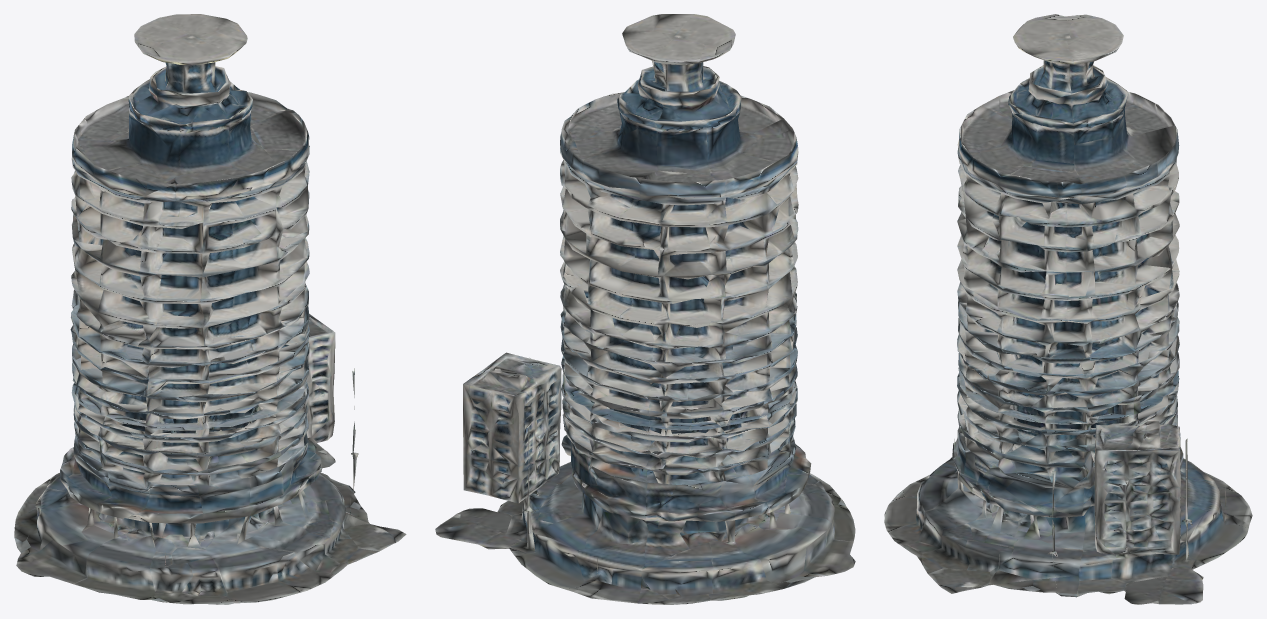
The model's file is tower_l_p.glb.
3 renders of one model, left to right at view 1: azimuth 30°, elevation 25°; view 2: azimuth 150°, elevation 25°; view 3: azimuth 270°, elevation 25°, orthographic.
Bounding box in the file's own units: 1.41 × 1.88 × 1.3.
1 material, 1 textured.
